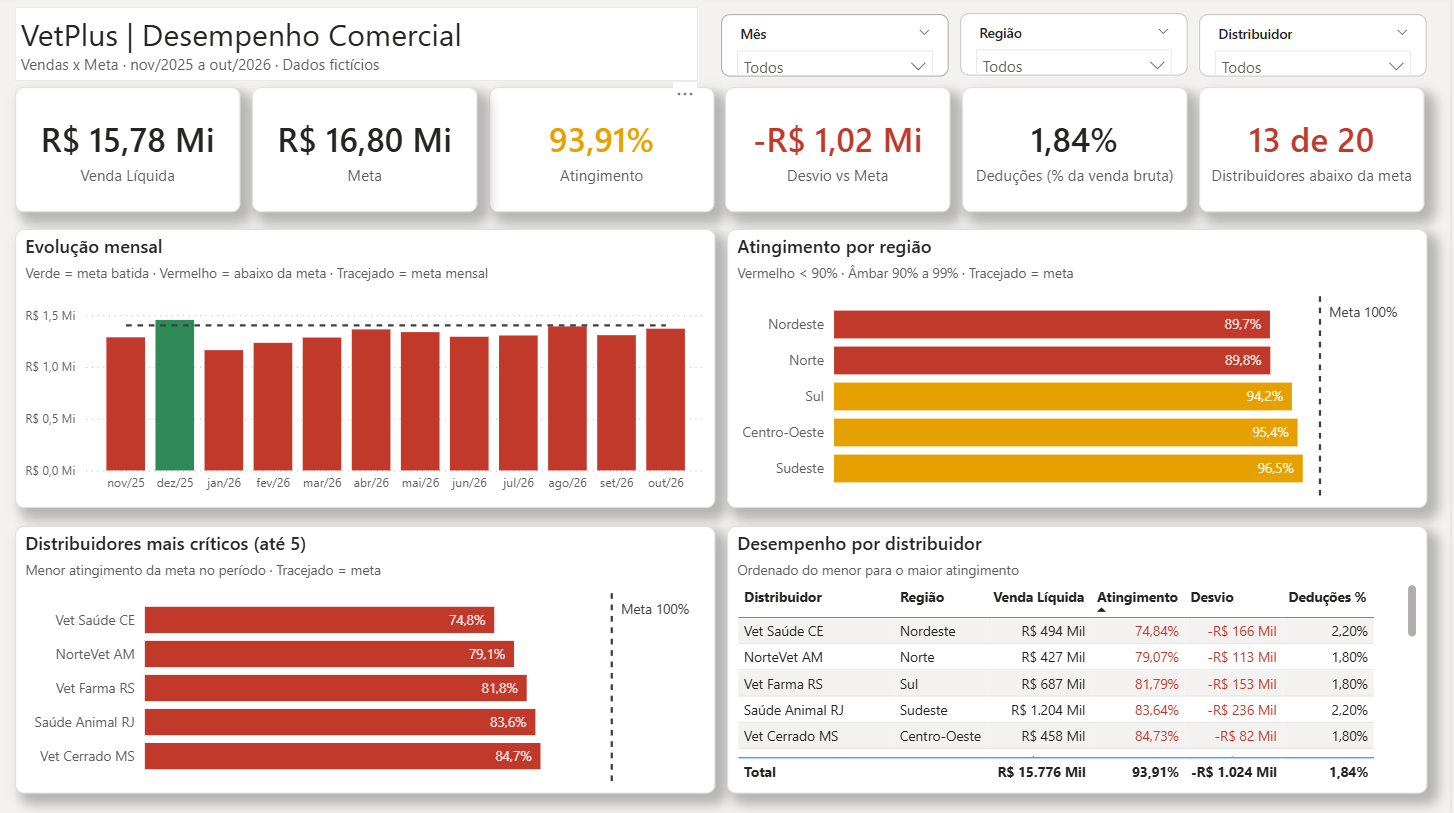

Layout of this report page (visuals, bound fields, positions):
{"tool":"powerbi","page":{"name":"Desempenho Comercial","canvas":[1280,720],"ordinal":0},"visuals":[{"type":"card","fields":{"Values":["_Medidas.Venda Líquida R$"]},"box":[20,80,198,110],"z":0},{"type":"card","fields":{"Values":["_Medidas.Atingimento %"]},"box":[436,80,198,110],"z":1000},{"type":"card","fields":{"Values":["_Medidas.Meta R$"]},"box":[228,80,198,110],"z":2000},{"type":"card","fields":{"Values":["_Medidas.Desvio R$"]},"box":[644,80,198,110],"z":3000},{"type":"card","fields":{"Values":["_Medidas.% Deduções"]},"box":[852,80,198,110],"z":4000},{"type":"card","fields":{"Values":["_Medidas.Texto Abaixo da Meta"]},"box":[1060,80,198,110],"z":5000},{"type":"lineClusteredColumnComboChart","title":"Evolução mensal","fields":{"Category":["dCalendario.Mes Ano"],"Y":["_Medidas.Venda Líquida R$"],"Y2":["_Medidas.Meta R$"]},"box":[20,205,615,245],"z":6000},{"type":"clusteredBarChart","title":"Atingimento por região","fields":{"Category":["dDistribuidores.Regiao"],"Y":["_Medidas.Atingimento %"]},"box":[645,205,615,245],"z":7000},{"type":"clusteredBarChart","title":"Distribuidores mais críticos (até 5)","fields":{"Category":["dDistribuidores.Distribuidor"],"Y":["_Medidas.Atingimento %"]},"box":[20,465,615,235.4],"z":8000},{"type":"tableEx","title":"Desempenho por distribuidor","fields":{"Values":["dDistribuidores.Distribuidor","dDistribuidores.Regiao","_Medidas.Venda Líquida R$","_Medidas.Atingimento %","_Medidas.Desvio R$","_Medidas.% Deduções"]},"box":[645,465,615,235],"z":9000},{"type":"slicer","fields":{"Values":["dDistribuidores.Regiao"]},"box":[850,15,200,55],"z":10000},{"type":"slicer","title":"Mês","fields":{"Values":["dCalendario.Mes Ano"]},"box":[640,15.6,200,55],"z":11000},{"type":"slicer","title":"Mês","fields":{"Values":["dDistribuidores.Distribuidor"]},"box":[1060,15.6,200,55.4],"z":12000},{"type":"textbox","box":[20,10,600,65],"z":13000}]}

Visuals, with their boxes in screenshot pixels (x1, y1, x2, y2), scaled from the page's 1280x720 canvas onto the 1454x813 screenshot:
card - _Medidas.Venda Líquida R$: bbox(23, 90, 248, 215)
card - _Medidas.Atingimento %: bbox(495, 90, 720, 215)
card - _Medidas.Meta R$: bbox(259, 90, 484, 215)
card - _Medidas.Desvio R$: bbox(732, 90, 956, 215)
card - _Medidas.% Deduções: bbox(968, 90, 1193, 215)
card - _Medidas.Texto Abaixo da Meta: bbox(1204, 90, 1429, 215)
"Evolução mensal" lineClusteredColumnComboChart: bbox(23, 231, 721, 508)
"Atingimento por região" clusteredBarChart: bbox(733, 231, 1431, 508)
"Distribuidores mais críticos (até 5)" clusteredBarChart: bbox(23, 525, 721, 791)
"Desempenho por distribuidor" tableEx: bbox(733, 525, 1431, 790)
slicer - dDistribuidores.Regiao: bbox(966, 17, 1193, 79)
"Mês" slicer: bbox(727, 18, 954, 80)
"Mês" slicer: bbox(1204, 18, 1431, 80)
textbox: bbox(23, 11, 704, 85)
